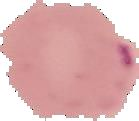parasitized: (100, 39, 139, 72)
